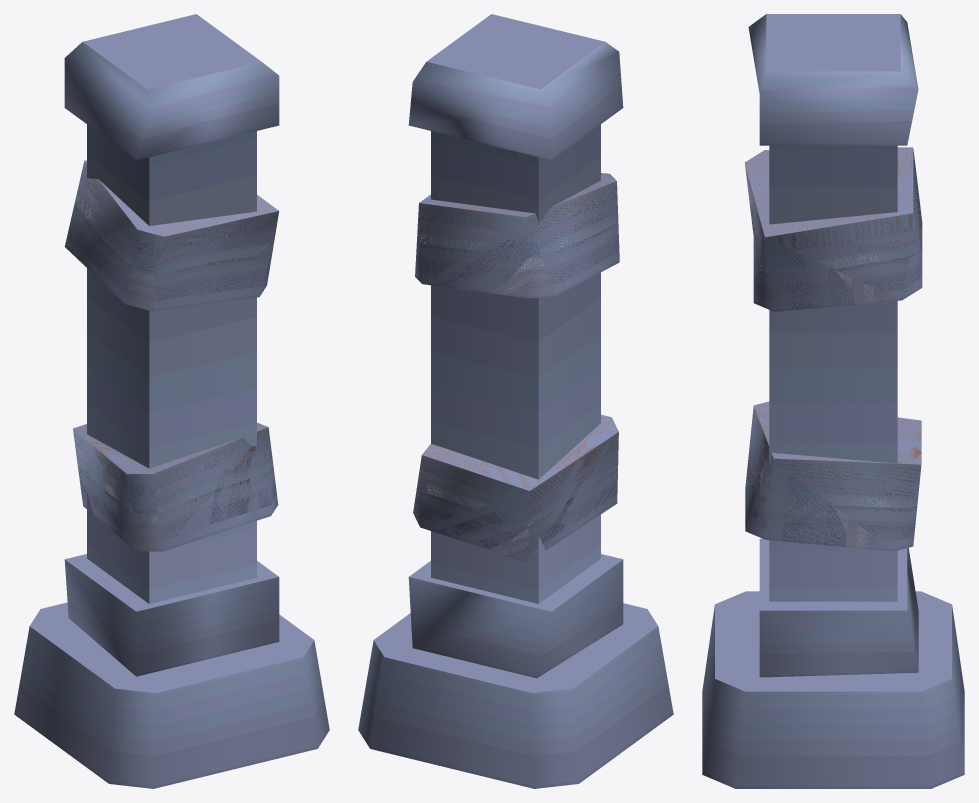
The model's file is column-large.glb.
3 views of the same model, side by side, from view 1: azimuth 30°, elevation 25°; view 2: azimuth 150°, elevation 25°; view 3: azimuth 270°, elevation 25° (orthographic). The views are drawn at different scales.
Parts seen in each view (by area): view 1: column-large; view 2: column-large; view 3: column-large.
Boxes of the visible parts, bbox=[...] form: column-large: bbox=[14, 14, 329, 788]; column-large: bbox=[358, 14, 673, 788]; column-large: bbox=[702, 14, 964, 788].
Size of the model in its own units: 0.3892 by 1.13 by 0.3892.
1 material, 1 textured.
